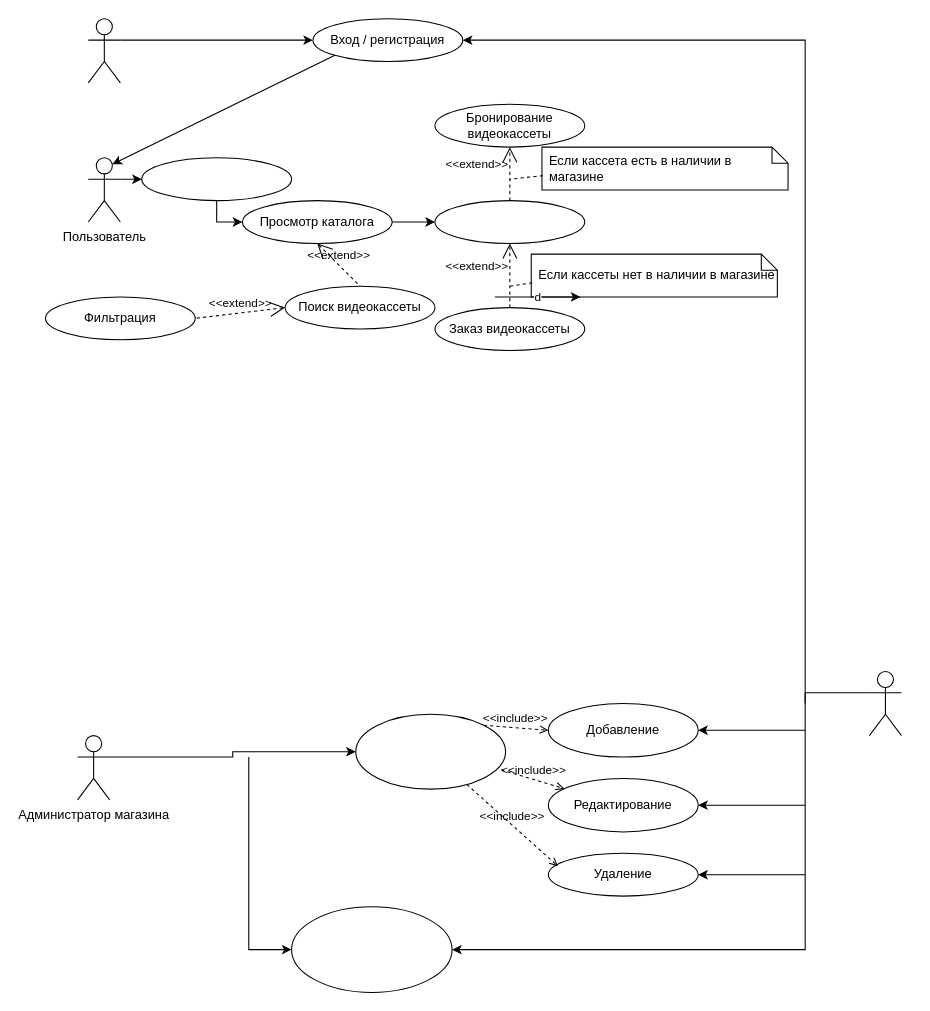
This 930x1011 diagram has some shape labels left out. The box of each missing label's shape, as (x1, y1, x2, y2) in pixels:
Выбор магазина: (141, 157, 292, 201)
Гость: (87, 18, 120, 83)
Система: (868, 670, 901, 736)
Страница кассеты: (434, 200, 585, 243)
Управление видеокассетами: (355, 713, 506, 789)
Формирование отчётов о использовании ресурсов магазина: (291, 906, 452, 992)
